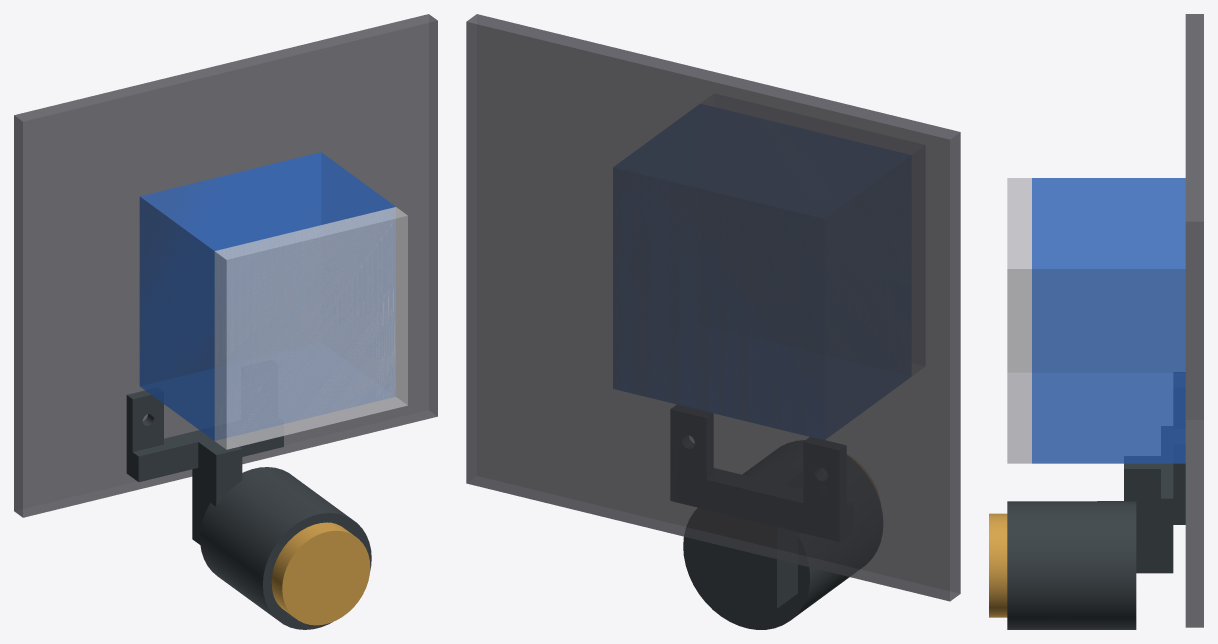
The model's file is cart-pod-holder-v3.glb.
3 renders of one model, left to right at view 1: azimuth 30°, elevation 25°; view 2: azimuth 150°, elevation 25°; view 3: azimuth 270°, elevation 25°, orthographic. The views are drawn at different scales.
Visible parts, largest first — view 1: plate, battery, arm_base, cart_pod_holder, seedling_pod; view 2: plate, battery, cart_pod_holder; view 3: battery, cart_pod_holder, plate, arm_base, seedling_pod.
Part boxes in pixels (left/top/right/bottom): plate: left=14, top=14, right=437, bottom=517; battery: left=139, top=152, right=395, bottom=440; arm_base: left=214, top=207, right=407, bottom=449; cart_pod_holder: left=126, top=388, right=371, bottom=629; seedling_pod: left=271, top=522, right=370, bottom=625; plate: left=466, top=14, right=960, bottom=601; battery: left=613, top=168, right=824, bottom=439; cart_pod_holder: left=670, top=405, right=882, bottom=629; battery: left=1032, top=178, right=1185, bottom=463; cart_pod_holder: left=1007, top=372, right=1185, bottom=629; plate: left=1185, top=14, right=1203, bottom=627; arm_base: left=1007, top=178, right=1031, bottom=463; seedling_pod: left=989, top=513, right=1007, bottom=617.
Bounding box in the file's own units: 160 × 182 × 70.
